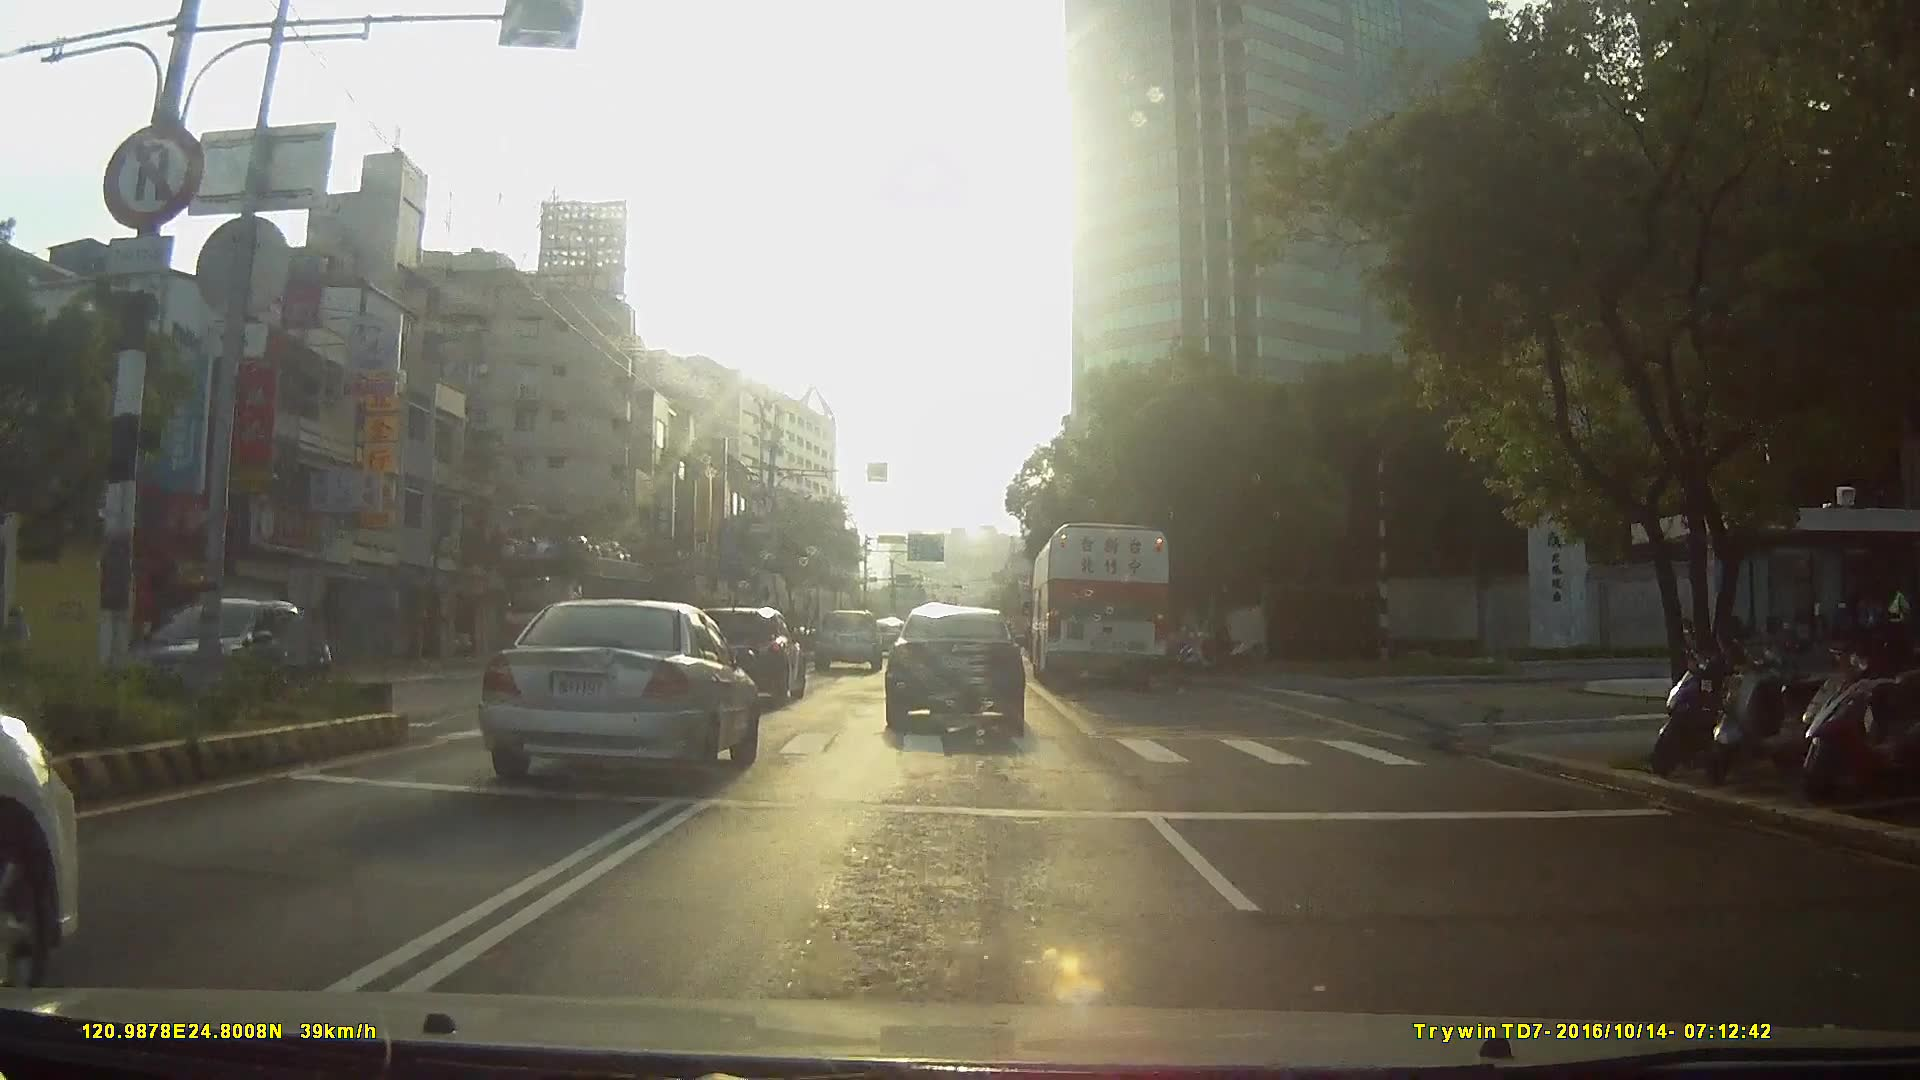vehicle: (469, 596, 760, 793), (107, 592, 342, 713), (1027, 518, 1171, 690), (882, 601, 1025, 733), (684, 607, 804, 707), (814, 607, 882, 673)
